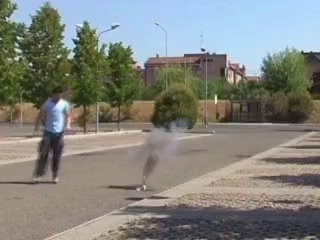smoke: (130, 117, 189, 187)
